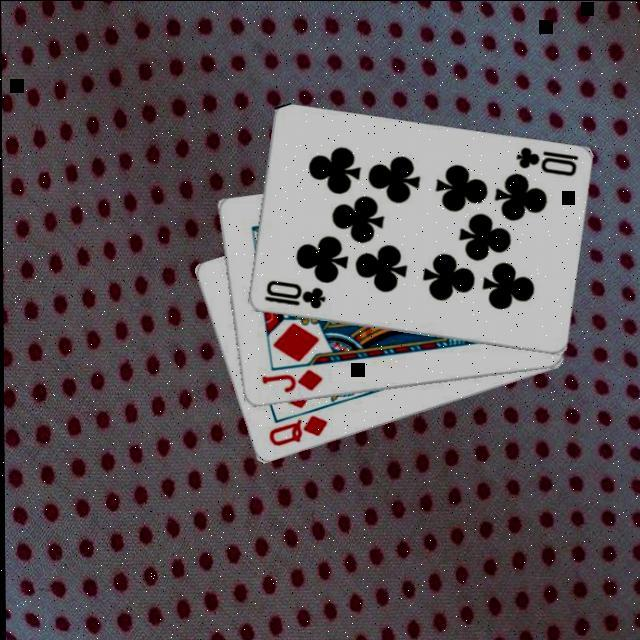10C: (261, 278, 328, 314), (513, 145, 581, 180)
JD: (259, 367, 326, 396)
QD: (266, 414, 331, 451)
